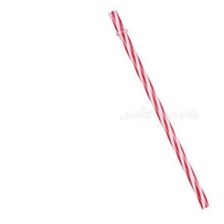drinking_straw: (102, 4, 214, 216)
